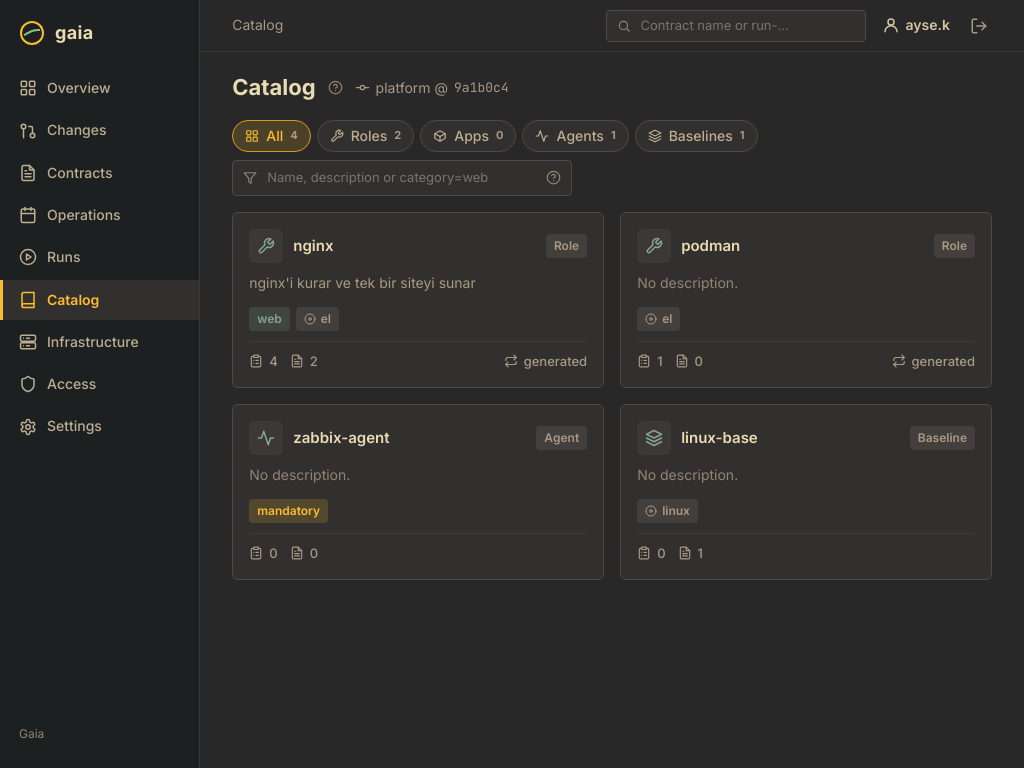
Test: catalog › shows what can be installed as cards, filtered by kind and text
This screenshot has width=1024, height=768.
Expected: the link with aria-label "AnsibleRole nginx" shows "nginx'i kurar", [232,212,604,388]
Expected: the link with aria-label "AnsibleRole nginx" shows "web", [232,212,604,388]
Click the button "Baselines 1" at (696, 136), box [635,120,758,152]
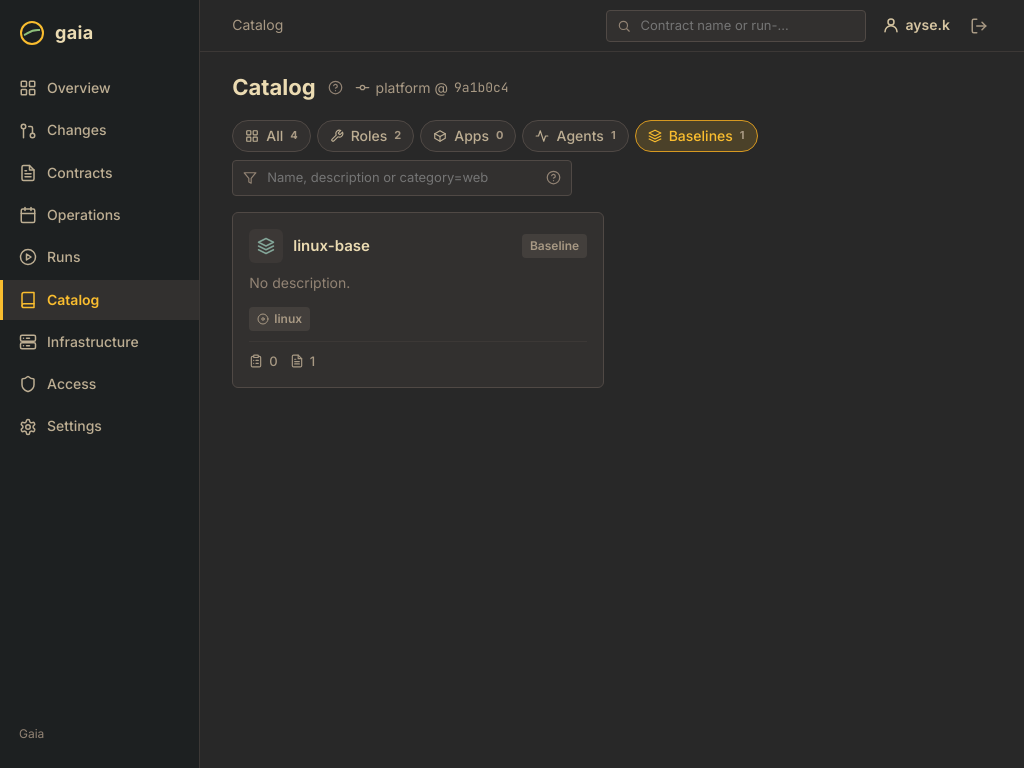
Expected: the link with aria-label "Baseline linux-base" is shown, [232,212,604,388]
Expected: the heading "AnsibleRole nginx" is gone
Click the button "All 4" at (272, 136), box [232,120,311,152]
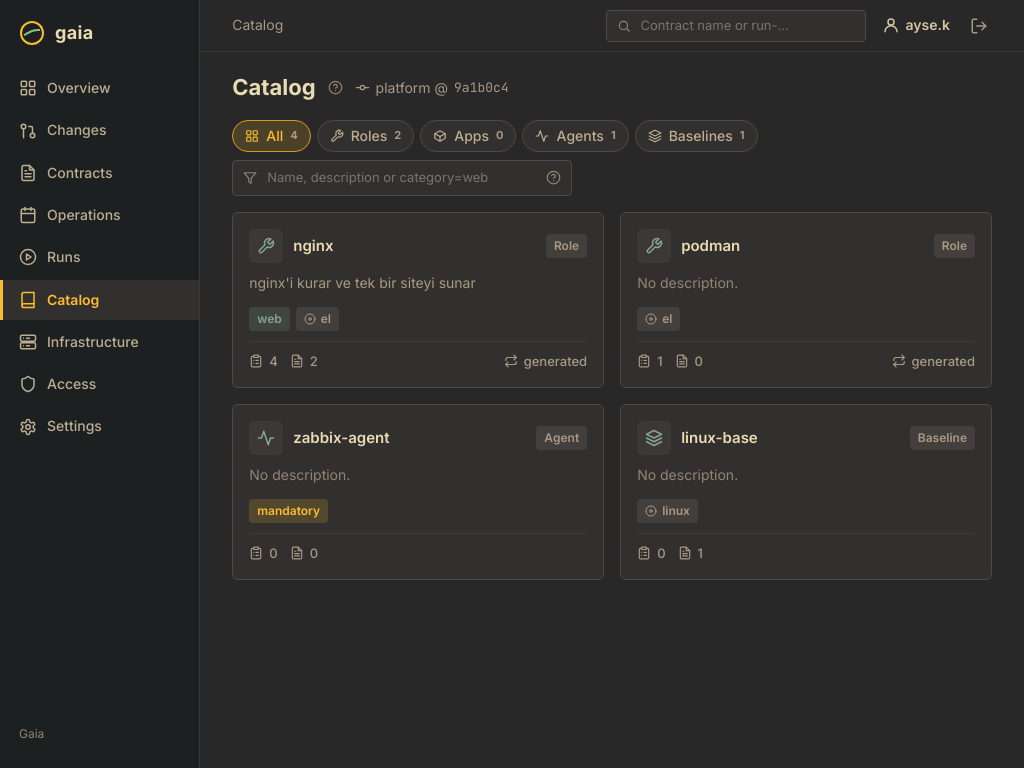
Type "siteyi" into the field with placeholder "Name, description or category=web" at (402, 178), box [265,168,538,188]
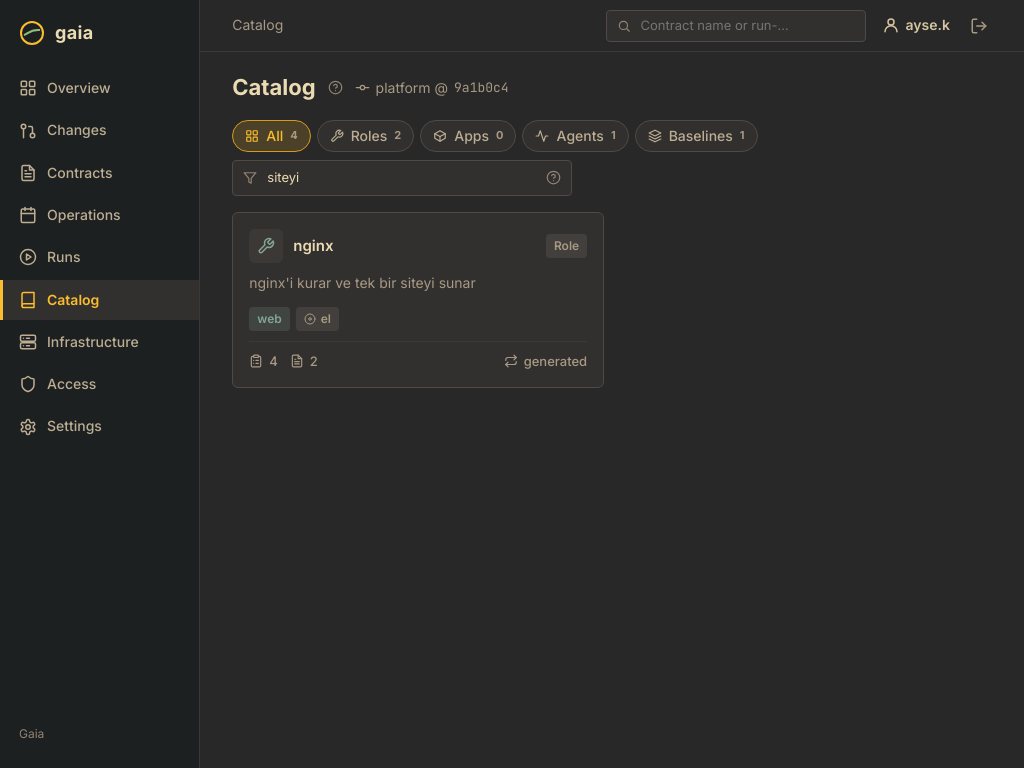
Expected: the link with aria-label "AnsibleRole nginx" is shown, [232,212,604,388]
Expected: the heading "AnsibleRole podman" is gone
